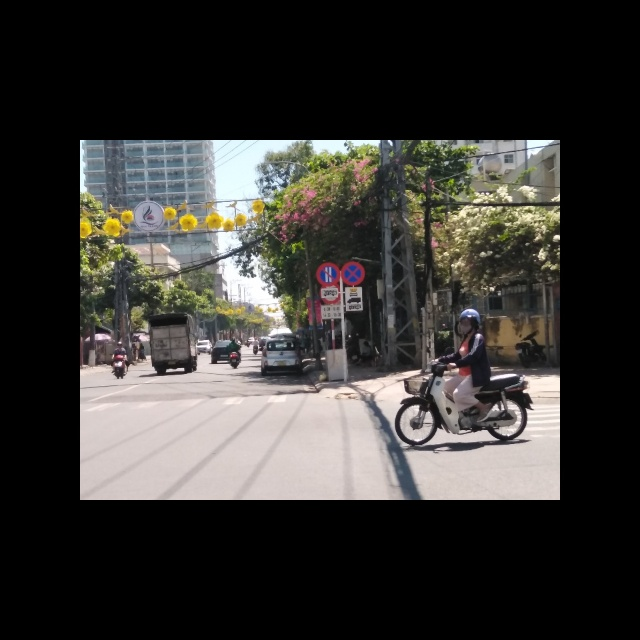Cấm dừng xe và đỗ xe: (341, 261, 365, 286)
Cấm đỗ xe ngày chẵn: (316, 262, 341, 286)
